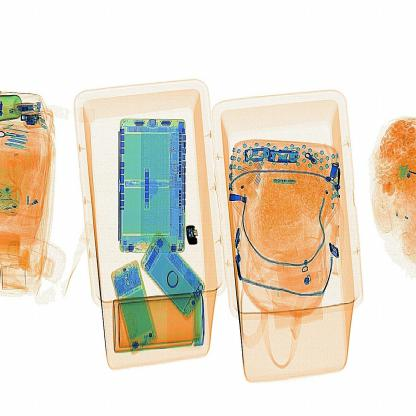wrench: (179, 216, 207, 252)
